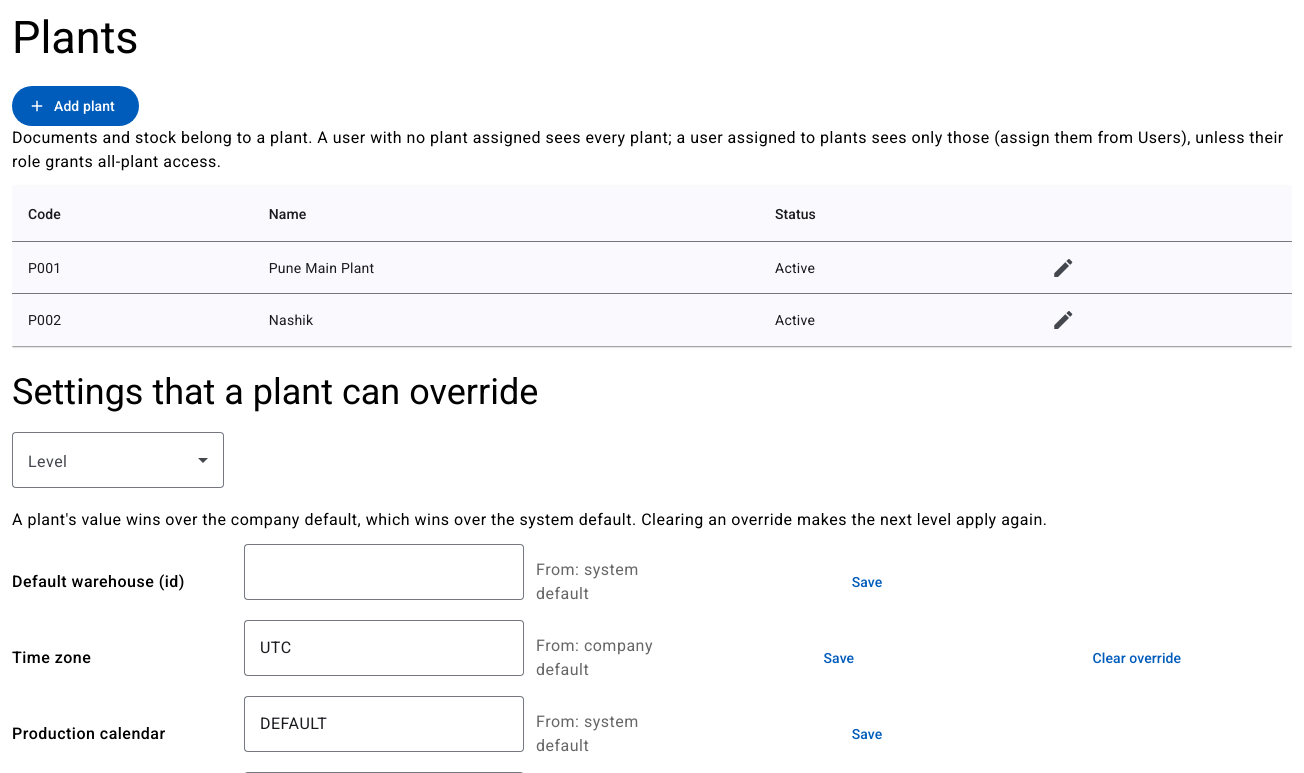
PlantsComponent › shows the server message when a plant cannot be saved
Click the button named "Edit plant P001" at (1063, 268), box [1043,248,1083,288]
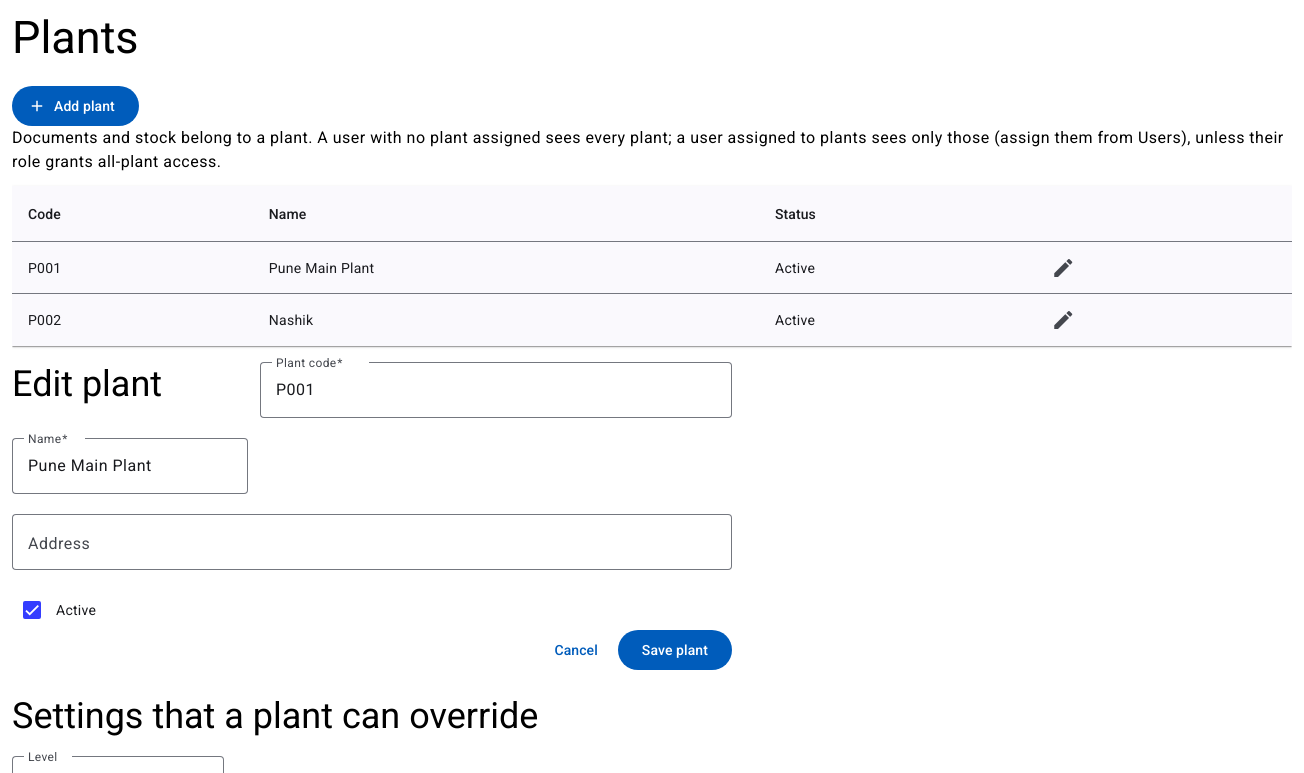
Click the button "Save plant" at (675, 650), box [618,630,732,670]
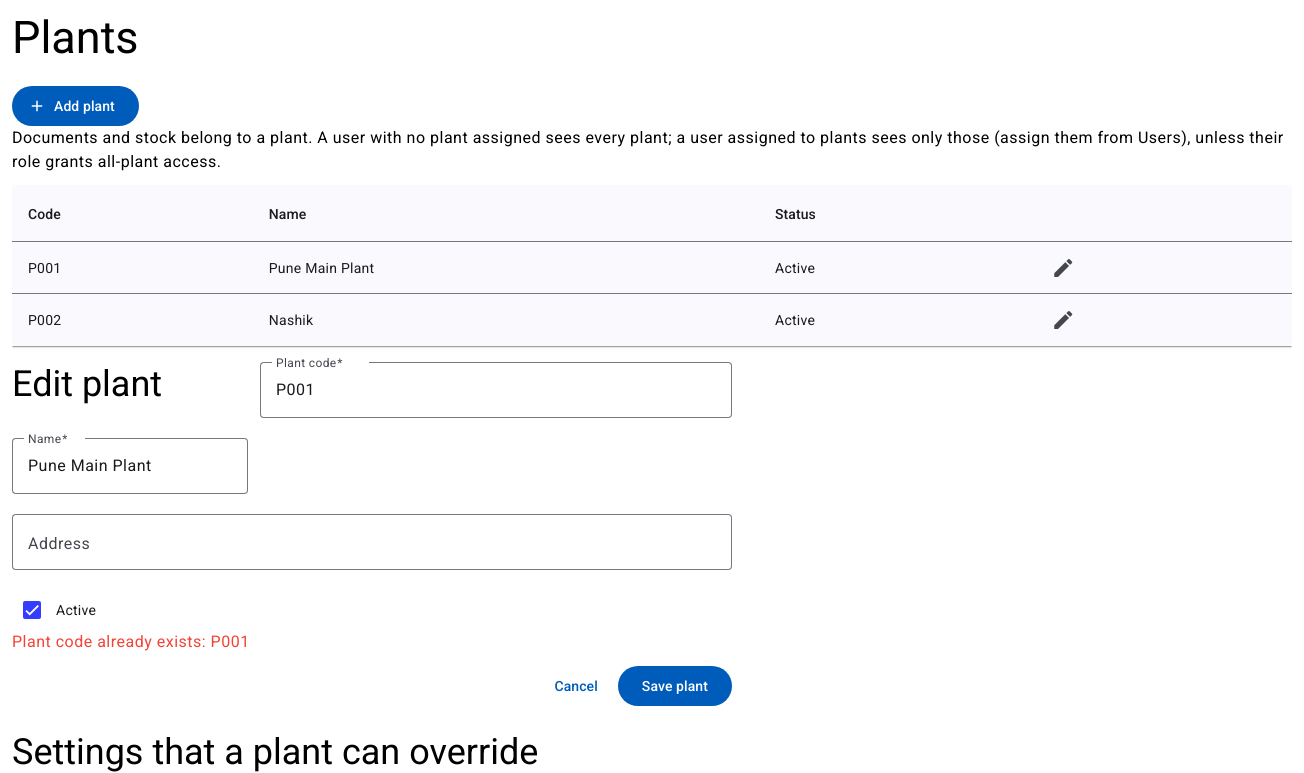
Expected: the message with test id "plant-error" shows "already exists", [12,632,250,652]
